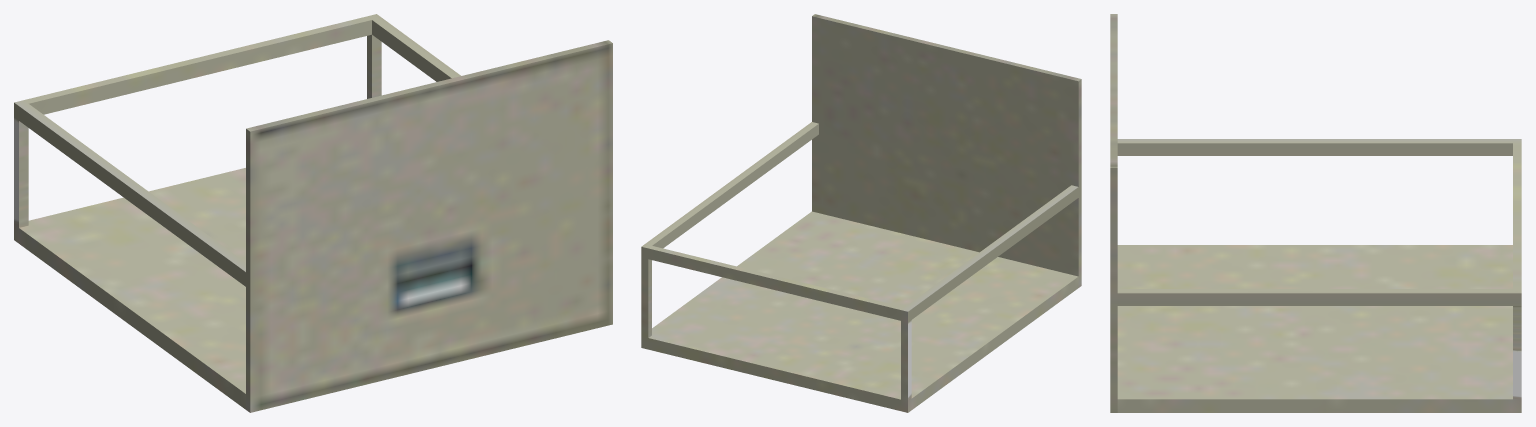
File: file_cabinet_small_shelf_fancy.obj
3 views of the same model, side by side, from view 1: azimuth 30°, elevation 25°; view 2: azimuth 150°, elevation 25°; view 3: azimuth 270°, elevation 25° (orthographic). The views are drawn at different scales.
Visible parts, largest first — view 1: file_cabinet_small_shelf_fancy; view 2: file_cabinet_small_shelf_fancy; view 3: file_cabinet_small_shelf_fancy.
Boxes of the visible parts, x1,y1,x2,y2 form: file_cabinet_small_shelf_fancy: (14, 14, 612, 412); file_cabinet_small_shelf_fancy: (641, 14, 1081, 412); file_cabinet_small_shelf_fancy: (1110, 14, 1521, 412).
Bounding box in the file's own units: 0.4647 × 0.3443 × 0.5239.
